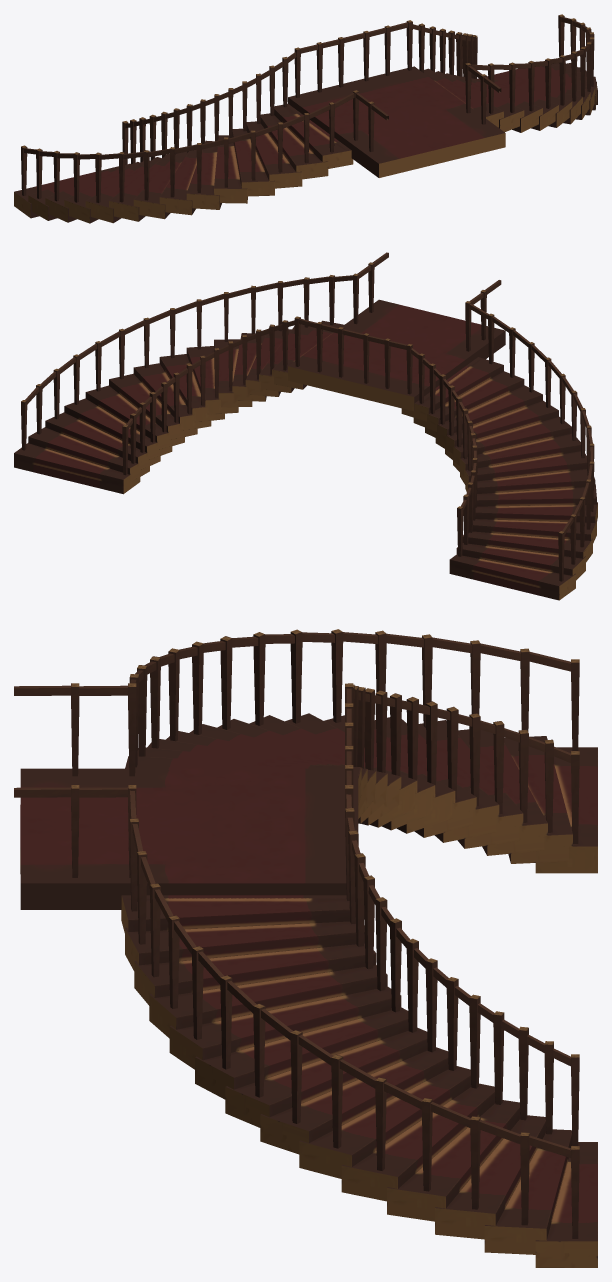
Rendered from Staors.fbx.
3 renders of one model, top to bottom at view 1: azimuth 30°, elevation 25°; view 2: azimuth 150°, elevation 25°; view 3: azimuth 270°, elevation 25°, orthographic. The views are drawn at different scales.
Visible parts, largest first — view 1: StairsNew.002; view 2: StairsNew.002; view 3: StairsNew.002.
Part boxes in pixels (box(x1,y1,x2,y2)): StairsNew.002: box(14, 14, 597, 223); StairsNew.002: box(14, 252, 597, 600); StairsNew.002: box(14, 629, 597, 1267).
Bounding box in the file's own units: 38.29 × 10.31 × 19.14.
